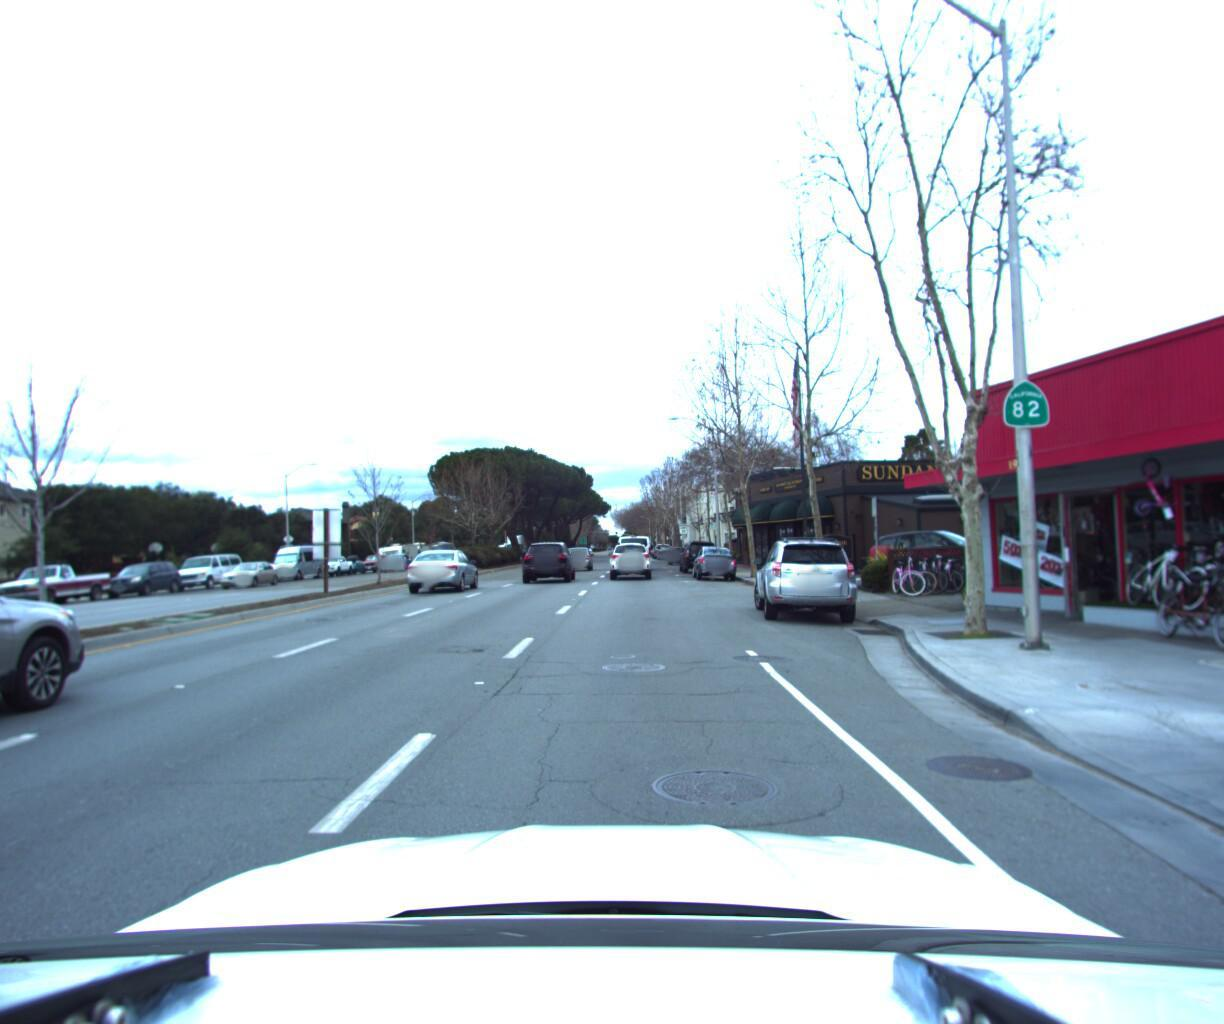bicycle: (1139, 560, 1224, 653), (1134, 530, 1222, 612), (1113, 533, 1196, 611), (1164, 529, 1224, 615), (1194, 528, 1224, 619), (908, 542, 952, 592), (896, 543, 939, 593), (880, 543, 921, 594), (935, 549, 981, 590), (922, 552, 966, 591)
car: (749, 530, 863, 626), (857, 522, 1007, 582), (401, 550, 484, 599), (102, 562, 193, 605), (170, 553, 253, 594), (266, 543, 334, 586), (519, 539, 577, 586), (218, 563, 288, 595), (606, 540, 652, 583), (690, 543, 739, 581), (677, 538, 720, 573), (618, 533, 654, 573), (315, 555, 358, 580), (565, 546, 598, 573), (332, 555, 372, 577), (363, 554, 399, 575), (382, 553, 416, 573), (667, 545, 693, 566)
